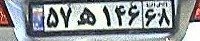character: (75, 5, 99, 29), (125, 1, 142, 27), (59, 4, 75, 29), (113, 2, 127, 28), (45, 6, 60, 30), (100, 4, 114, 29), (156, 8, 172, 27), (144, 8, 158, 27)
